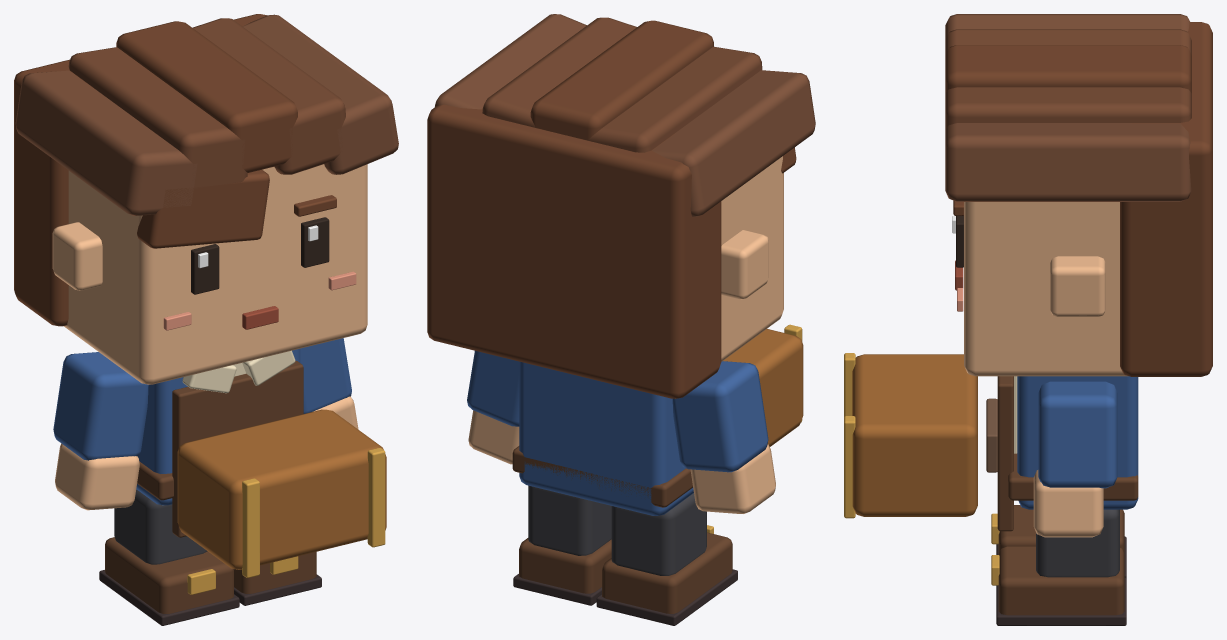
Rendered from NPC01_array_keeper.glb.
3 renders of one model, left to right at view 1: azimuth 30°, elevation 25°; view 2: azimuth 150°, elevation 25°; view 3: azimuth 270°, elevation 25°, orthographic. The views are drawn at different scales.
Parts seen in each view (by area): view 1: Face, Crate, HairLock, _MeshInstance3D_26, _MeshInstance3D_25, HairBack, Sleeve, _MeshInstance3D_28, _MeshInstance3D_27, Apron, Fringe, Boot (+19 smaller); view 2: HairBack, Jacket, HairLock, _MeshInstance3D_26, Sleeve, _MeshInstance3D_25, Face, Trousers, _MeshInstance3D_27, Boot, Crate, _MeshInstance3D_28 (+9 smaller); view 3: Face, HairBack, Crate, _MeshInstance3D_28, _MeshInstance3D_26, _MeshInstance3D_27, Sleeve2, Boot2, Jacket, _MeshInstance3D_25, Trousers2, HairLock (+9 smaller).
Part boxes in pixels (box(x1,y1,x2,y2)): Face: box(63, 164, 367, 384); Crate: box(177, 409, 386, 569); HairLock: box(15, 70, 197, 215); _MeshInstance3D_26: box(116, 21, 297, 172); _MeshInstance3D_25: box(68, 47, 247, 188); HairBack: box(14, 14, 266, 326); Sleeve: box(53, 352, 148, 460); _MeshInstance3D_28: box(243, 14, 398, 174); _MeshInstance3D_27: box(192, 18, 345, 174); Apron: box(172, 360, 303, 537); Fringe: box(137, 169, 269, 248); Boot: box(105, 537, 233, 613); HairBack: box(427, 104, 721, 398); Jacket: box(519, 361, 693, 515); HairLock: box(652, 70, 815, 216); _MeshInstance3D_26: box(530, 20, 713, 140); Sleeve: box(672, 361, 768, 472); _MeshInstance3D_25: box(587, 46, 762, 152); Face: box(721, 156, 783, 361); Trousers: box(611, 493, 706, 575); _MeshInstance3D_27: box(482, 17, 636, 127); Boot: box(602, 532, 732, 613); Crate: box(723, 329, 803, 446); _MeshInstance3D_28: box(435, 14, 586, 109); Face: box(964, 202, 1128, 376); HairBack: box(1120, 22, 1212, 376); Crate: box(852, 354, 977, 516); _MeshInstance3D_28: box(945, 123, 1191, 201); _MeshInstance3D_26: box(945, 45, 1191, 93); _MeshInstance3D_27: box(945, 87, 1191, 129); Sleeve2: box(1038, 381, 1117, 488); Boot2: box(998, 546, 1124, 615); Jacket: box(1017, 376, 1138, 509); _MeshInstance3D_25: box(945, 29, 1191, 55); Trousers2: box(1036, 509, 1119, 577); HairLock: box(945, 14, 1189, 39).
Bounding box in the file's own units: 0.7116 × 1.25 × 0.7925.
